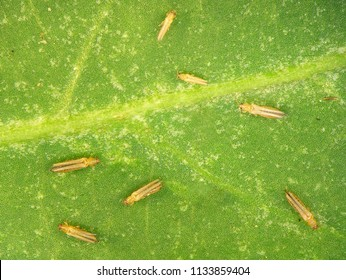Thrips: (282, 186, 324, 241), (236, 93, 295, 129), (123, 176, 168, 213), (53, 218, 107, 248), (42, 160, 104, 174)
